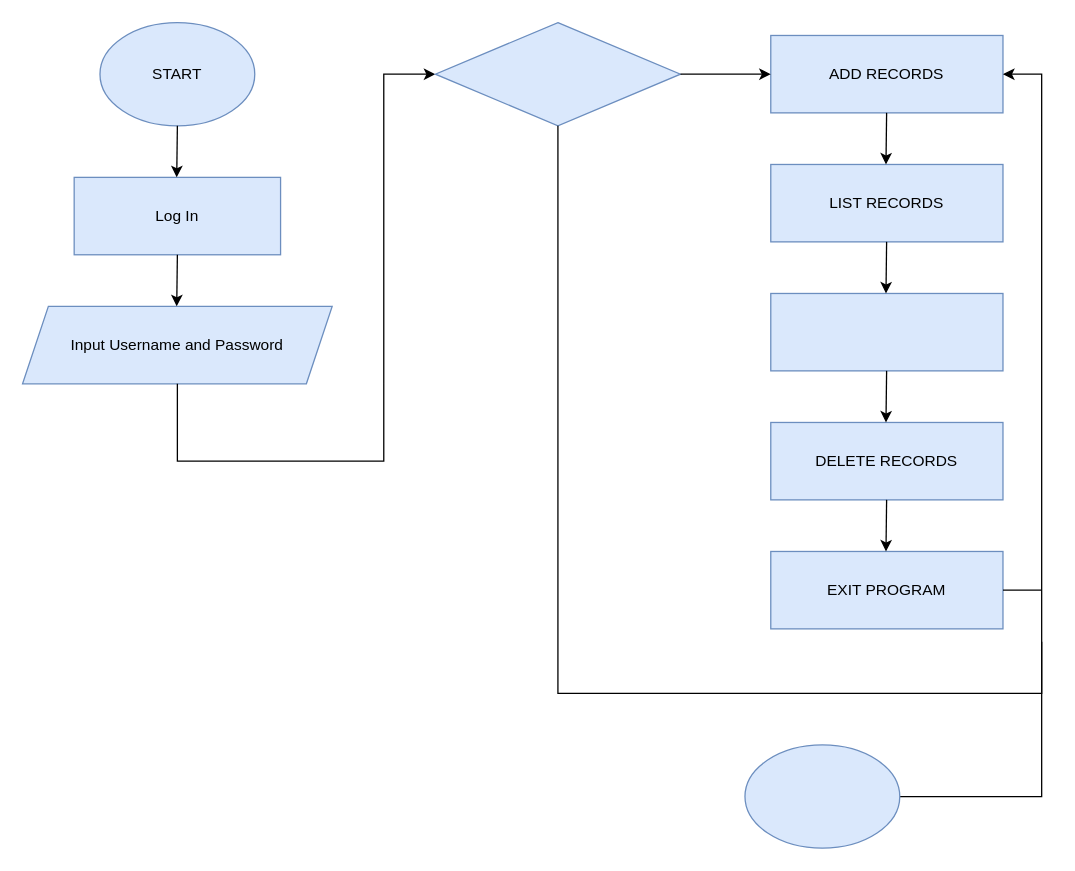
Image size: 1075x871. Some labels were removed from this diagram. The shapes that lost their labels are listed below. From the top down, each one's centre as x and y in pixels, then its label:
the point at 557,73: Student Information
the point at 886,331: MODIFY RECORDS
the point at 822,796: STOP
